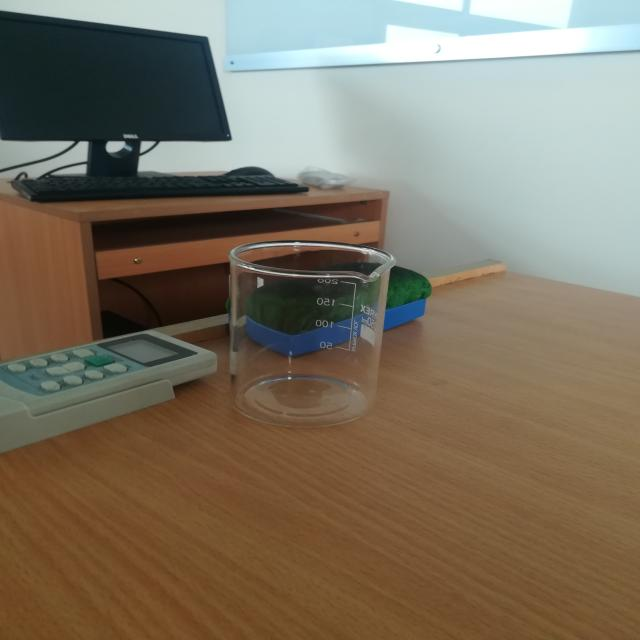Beaker: (188, 195, 428, 443)
